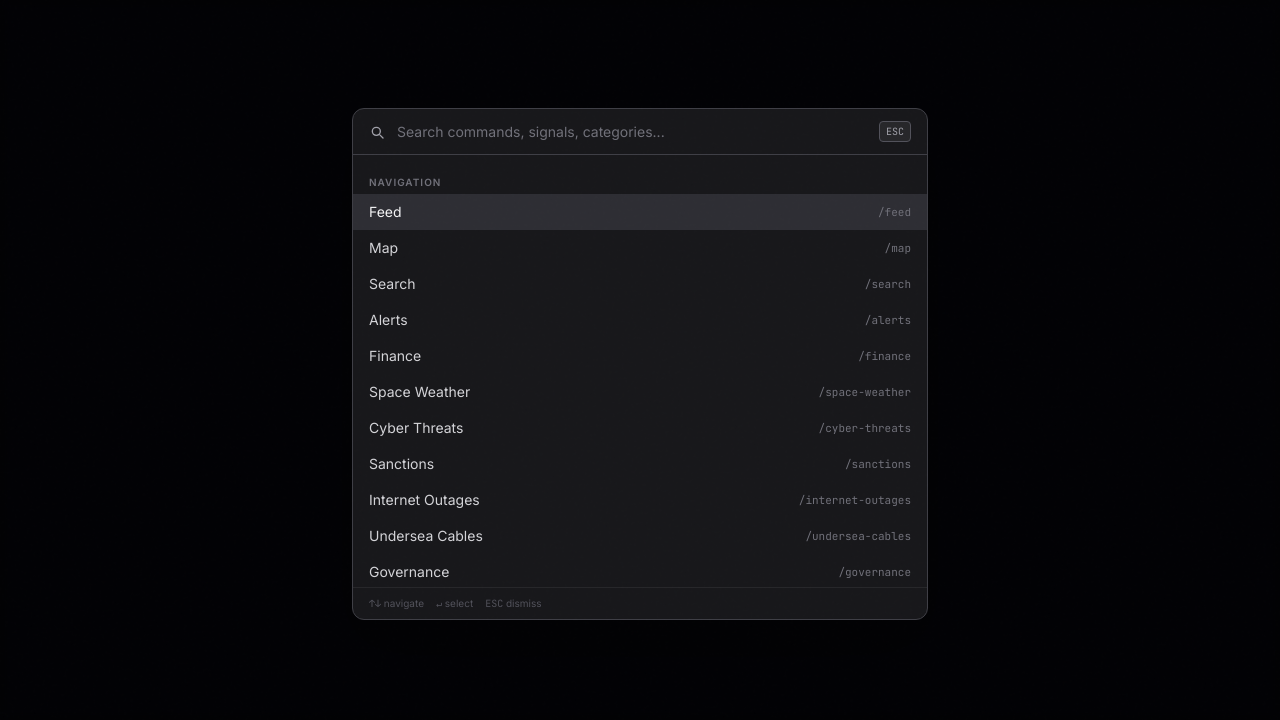
CommandPalette › 7. shows "No results" when query matches nothing
Type "xyzzy123nonexistent" into the dropdown with placeholder "Search commands, signals, categories...". click: [632, 132]
box: [397,122,867,142]
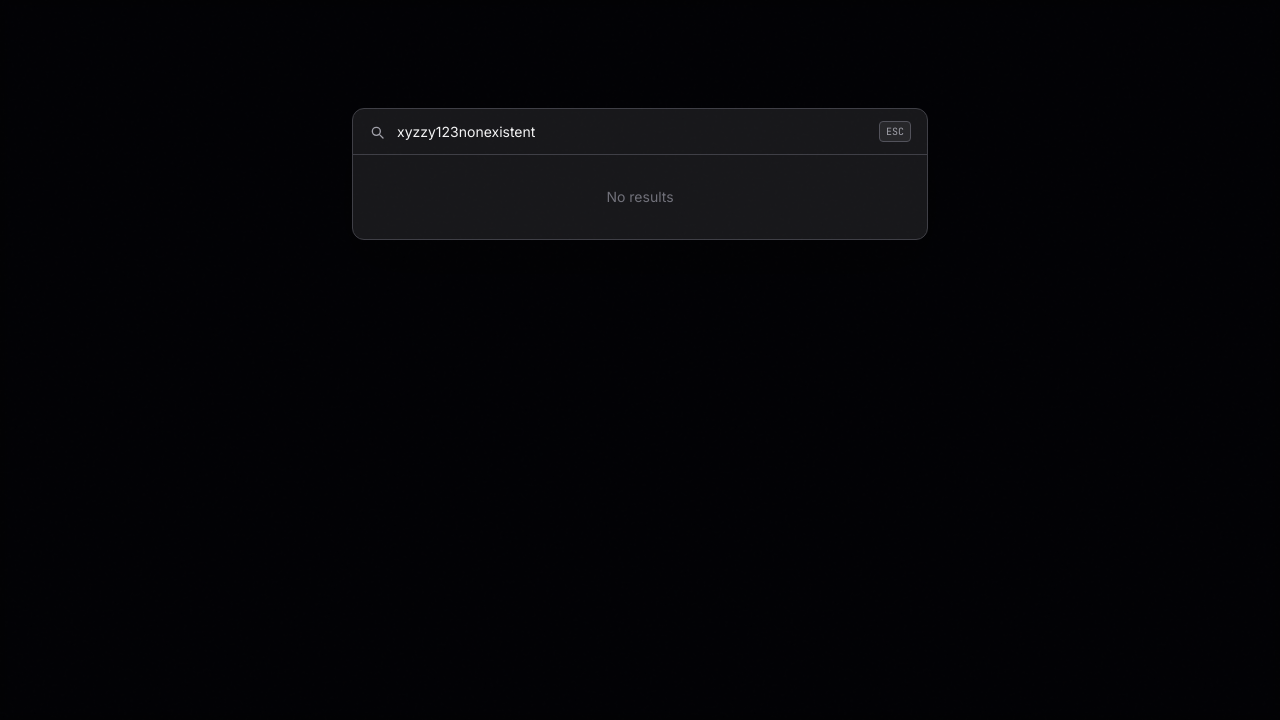
Check: the text "No results" is shown, box [606,188,674,205]
